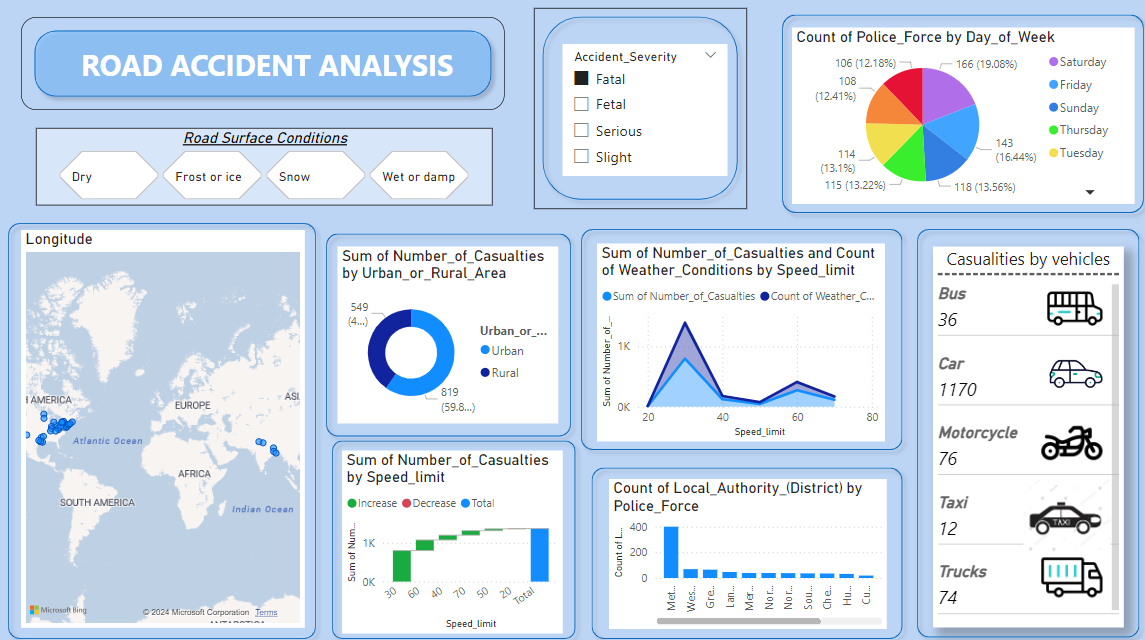

This screenshot's page, from the dashboard's own definition file:
{"tool":"powerbi","page":{"name":"Page 1","canvas":[1280,720],"ordinal":0},"visuals":[{"type":"map","fields":{"Category":["Data.Longitude"]},"box":[23.3,256.7,315,441.7],"z":0},{"type":"waterfallChart","fields":{"Category":["Data.Speed_limit"],"Y":["Sum(Data.Number_of_Casualties)"]},"box":[380,501.7,245,203.3],"z":1000},{"type":"textbox","box":[23.9,20.7,480.4,58.9],"z":2000},{"type":"advancedSlicerVisual","title":"Road Surface Conditions","fields":{"Values":["Data.Road_Surface_Conditions"]},"box":[39.8,143.2,507.4,85.9],"z":3000},{"type":"slicer","fields":{"Values":["Data.Accident_Severity"]},"box":[625,50,183.3,146.7],"z":5000},{"type":"pieChart","fields":{"Category":["Data.Day_of_Week"],"Y":["CountNonNull(Data.Police_Force)"]},"box":[879.2,32.4,380.5,195.9],"z":6000},{"type":"multiRowCard","title":"Casualities by vehicles ","fields":{"Values":["Data.Vehicle_Type","Sum(Data.Number_of_Casualties)"]},"box":[1036.7,275,211.7,423.3],"z":7000},{"type":"shape","box":[23.9,20.7,537.6,103.4],"z":8000},{"type":"textbox","box":[85,45,445,66.7],"z":9000},{"type":"shape","box":[593.3,10,236.7,223.3],"z":10000},{"type":"shape","box":[860,8.3,420,238.3],"z":11000},{"type":"donutChart","fields":{"Category":["Data.Urban_or_Rural_Area"],"Y":["Sum(Data.Number_of_Casualties)"]},"box":[375,275,245,196.7],"z":12000},{"type":"shape","box":[353.3,251.7,290,243.3],"z":13000},{"type":"shape","box":[360,481.7,288.3,238.3],"z":14000},{"type":"stackedAreaChart","fields":{"Y":["Sum(Data.Number_of_Casualties)","CountNonNull(Data.Weather_Conditions)"],"Category":["Data.Speed_limit"]},"box":[663.3,271.7,320,220],"z":15000},{"type":"lineStackedColumnComboChart","fields":{"Category":["Data.Police_Force"],"Y":["CountNonNull(Data.Local_Authority_(District))"]},"box":[676.7,533.3,308.3,166.7],"z":16000},{"type":"shape","box":[636.7,246.7,375,263.3],"z":17000},{"type":"shape","box":[648.3,511.7,363.3,208.3],"z":18000},{"type":"shape","box":[1010,246.7,265,471.7],"z":19000},{"type":"shape","box":[0,240,360,480],"z":20000},{"type":"image","box":[1158.3,306.7,71.7,75],"z":21000},{"type":"image","box":[1158.3,373.3,75,80],"z":22000},{"type":"image","box":[1151.7,453.3,78.3,80],"z":23000},{"type":"image","box":[1131.7,520,106.7,108.3],"z":24000},{"type":"image","box":[1151.7,603.3,78.3,78.3],"z":25000}]}

Visuals, with their boxes in screenshot pixels (x1, y1, x2, y2), scaled from the page's 1280x720 canvas onto the 1145x640 screenshot:
map - Data.Longitude: 21 228 303 621
waterfallChart - Data.Speed_limit x Sum(Data.Number_of_Casualties): 340 446 559 627
textbox: 21 18 451 71
"Road Surface Conditions" advancedSlicerVisual: 36 127 489 204
slicer - Data.Accident_Severity: 559 44 723 175
pieChart - Data.Day_of_Week x CountNonNull(Data.Police_Force): 786 29 1127 203
"Casualities by vehicles " multiRowCard: 927 244 1117 621
shape: 21 18 502 110
textbox: 76 40 474 99
shape: 531 9 742 207
shape: 769 7 1144 219
donutChart - Data.Urban_or_Rural_Area x Sum(Data.Number_of_Casualties): 335 244 555 419
shape: 316 224 575 440
shape: 322 428 580 639
stackedAreaChart - Sum(Data.Number_of_Casualties) x CountNonNull(Data.Weather_Conditions): 593 242 880 437
lineStackedColumnComboChart - Data.Police_Force x CountNonNull(Data.Local_Authority_(District)): 605 474 881 622
shape: 570 219 905 453
shape: 580 455 905 639
shape: 903 219 1141 639
shape: 0 213 322 639
image: 1036 273 1100 339
image: 1036 332 1103 403
image: 1030 403 1100 474
image: 1012 462 1108 558
image: 1030 536 1100 606
